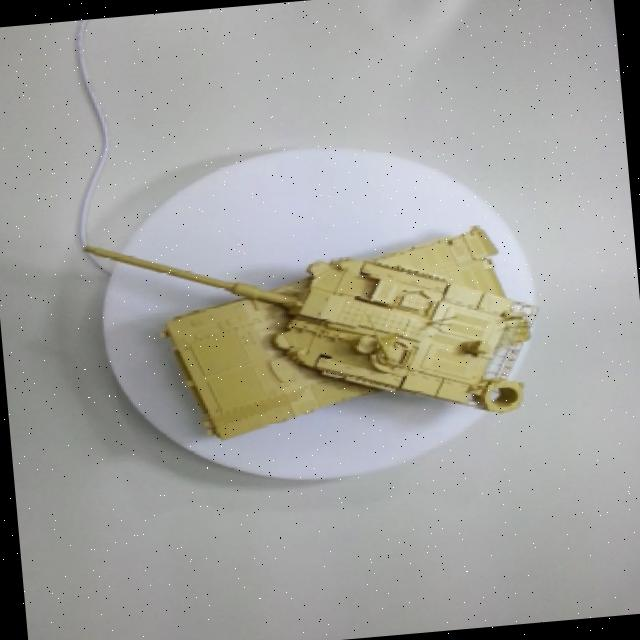korea tank: (86, 101, 561, 507)
